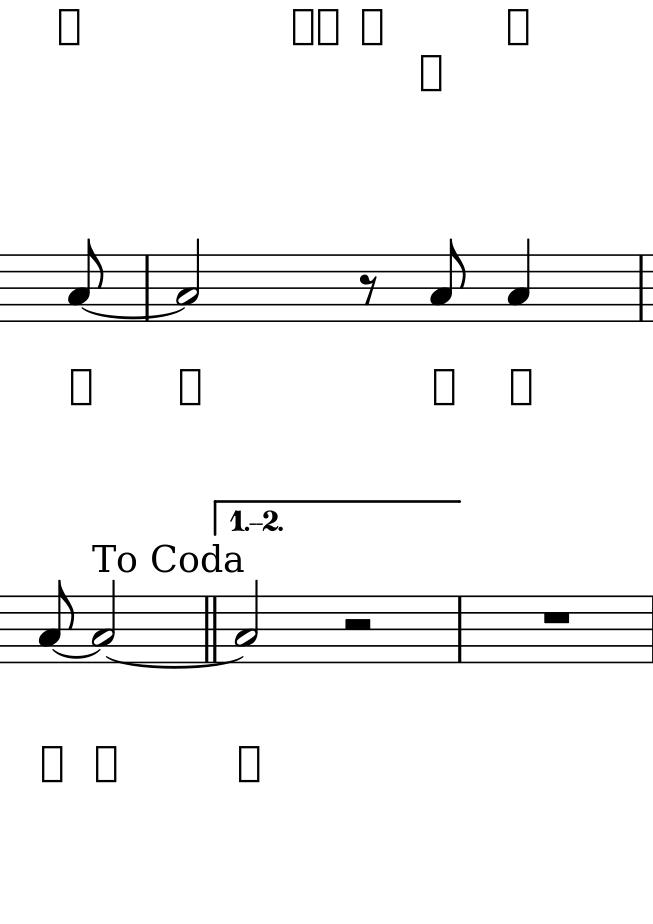2_3: (89, 580, 118, 667), (234, 578, 261, 664), (177, 237, 201, 324)
4_3: (506, 237, 533, 323)
8_3: (429, 237, 468, 323), (68, 236, 105, 323), (38, 580, 73, 664)
Double_barline: (198, 596, 224, 664)
Rests1: (540, 607, 574, 629)
Rests2: (340, 615, 373, 636)
Rests8: (356, 271, 380, 309)
Single_barline: (449, 595, 473, 662), (630, 254, 651, 320), (137, 254, 157, 321)
Slur: (103, 655, 244, 669), (81, 307, 187, 318), (52, 648, 103, 660)
ToCoda: (88, 543, 245, 574)
